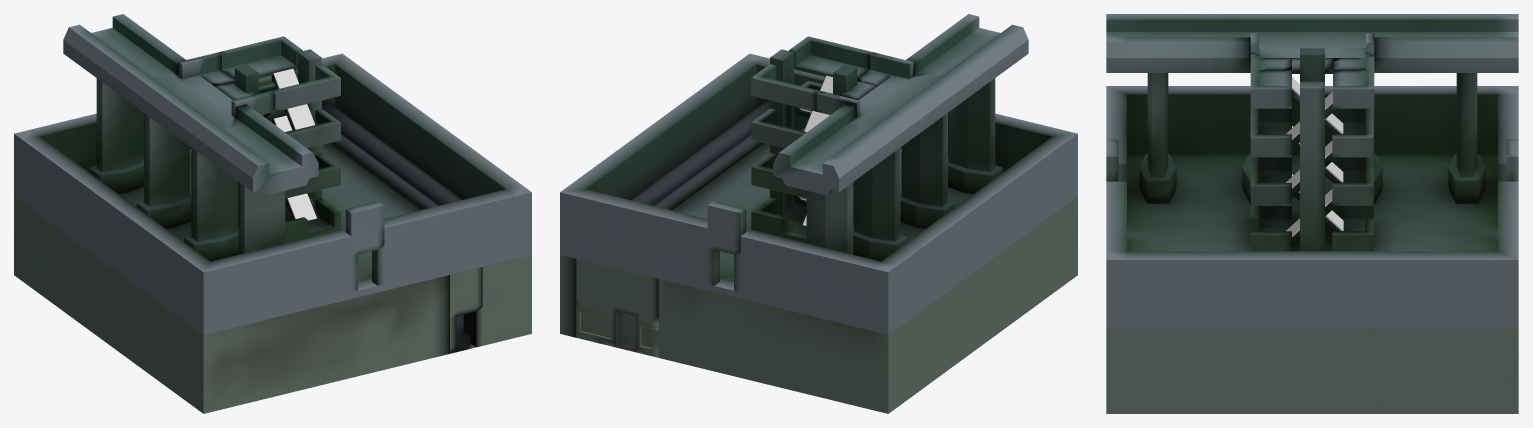
The picture shows the model from 3 angles, left to right: view 1: azimuth 30°, elevation 25°; view 2: azimuth 150°, elevation 25°; view 3: azimuth 270°, elevation 25°; orthographic projection. The views are drawn at different scales.
Visible parts, largest first — view 1: Object01, skybridge stairs01, tank steamtunnels01, metal01, ramp03; view 2: Object01, skybridge stairs01, tank steamtunnels01, metal01, ramp03; view 3: Object01, skybridge stairs01, tank steamtunnels01, ramp03, metal01.
Boxes of the visible parts, x1,y1,x2,y2 form: Object01: [14, 53, 531, 334]; skybridge stairs01: [63, 14, 340, 261]; tank steamtunnels01: [14, 196, 531, 413]; metal01: [262, 69, 462, 219]; ramp03: [262, 68, 316, 220]; Object01: [560, 53, 1077, 334]; skybridge stairs01: [751, 14, 1028, 261]; tank steamtunnels01: [560, 196, 1077, 413]; metal01: [629, 77, 825, 223]; ramp03: [799, 75, 832, 225]; Object01: [1106, 86, 1518, 327]; skybridge stairs01: [1106, 14, 1518, 251]; tank steamtunnels01: [1106, 328, 1518, 413]; ramp03: [1285, 77, 1343, 236]; metal01: [1292, 89, 1341, 245].
Size of the model in its own units: 20 by 14.1 by 20.
